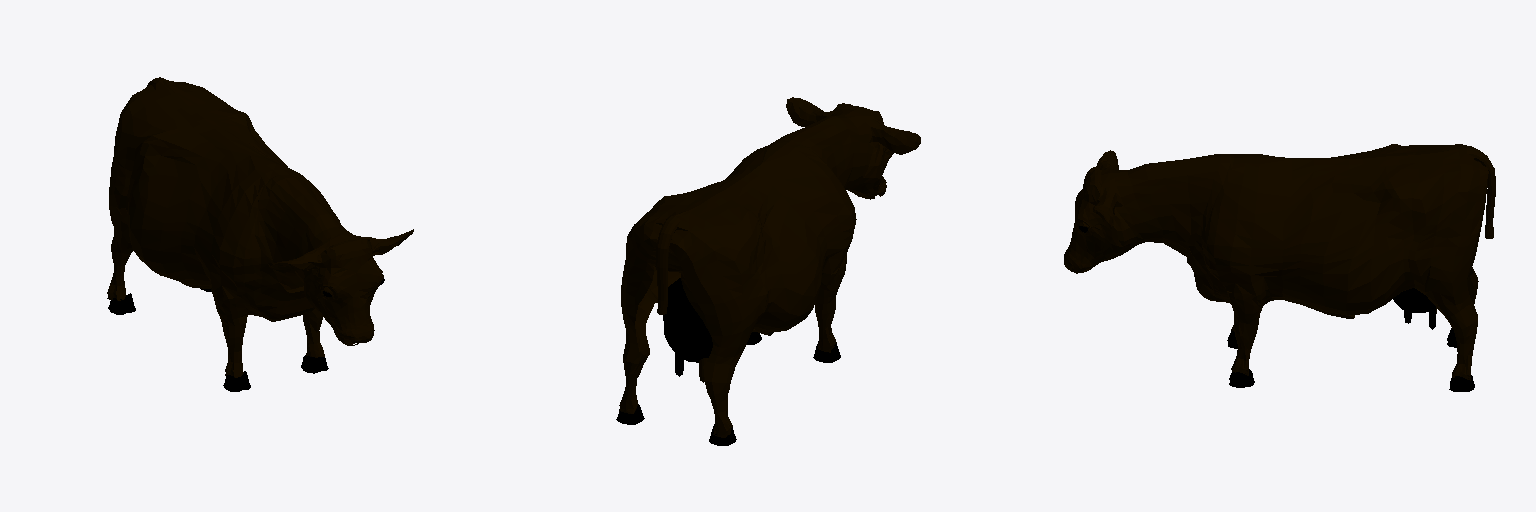
File: cow1.obj
3 renders of one model, left to right at view 1: azimuth 30°, elevation 25°; view 2: azimuth 150°, elevation 25°; view 3: azimuth 270°, elevation 25°, orthographic.
Parts seen in each view (by area): view 1: cow1__1; view 2: cow1__1; view 3: cow1__1.
Part boxes in pixels (x1,y1,x2,y2): cow1__1: (107, 77, 413, 391); cow1__1: (616, 97, 920, 445); cow1__1: (1064, 144, 1495, 391).
Size of the model in its own units: 26.86 by 34.2 by 62.11.